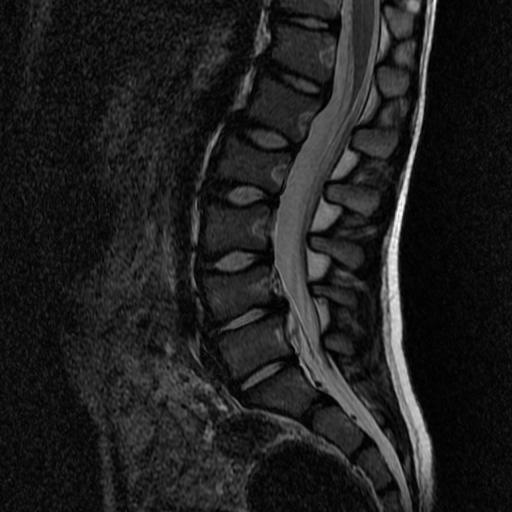D1: (227, 110, 301, 155)
